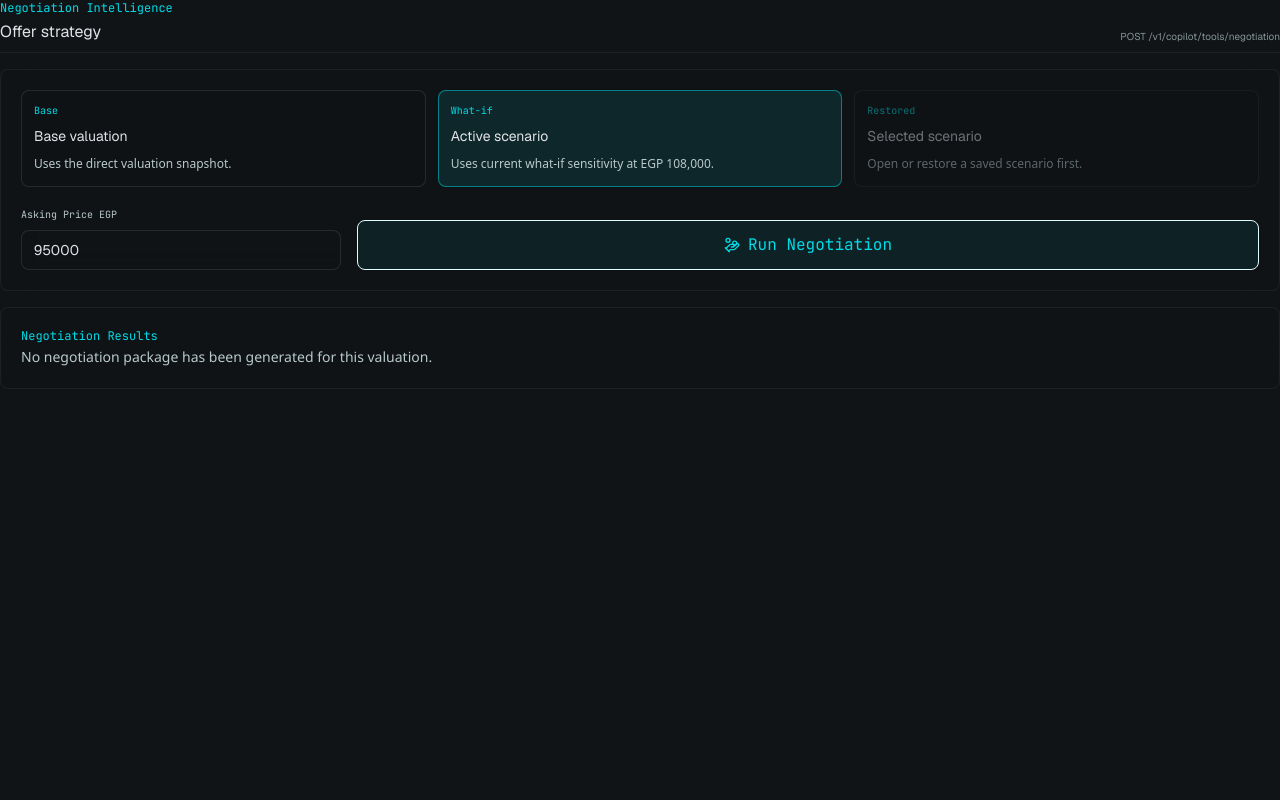
Scenario: NegotiationIntelligencePanel › runs negotiation on the active unsaved scenario with what-if modifications
Replace the text in the number field named "negotiation asking price" with "118000": (181, 250) [21, 230, 341, 270]
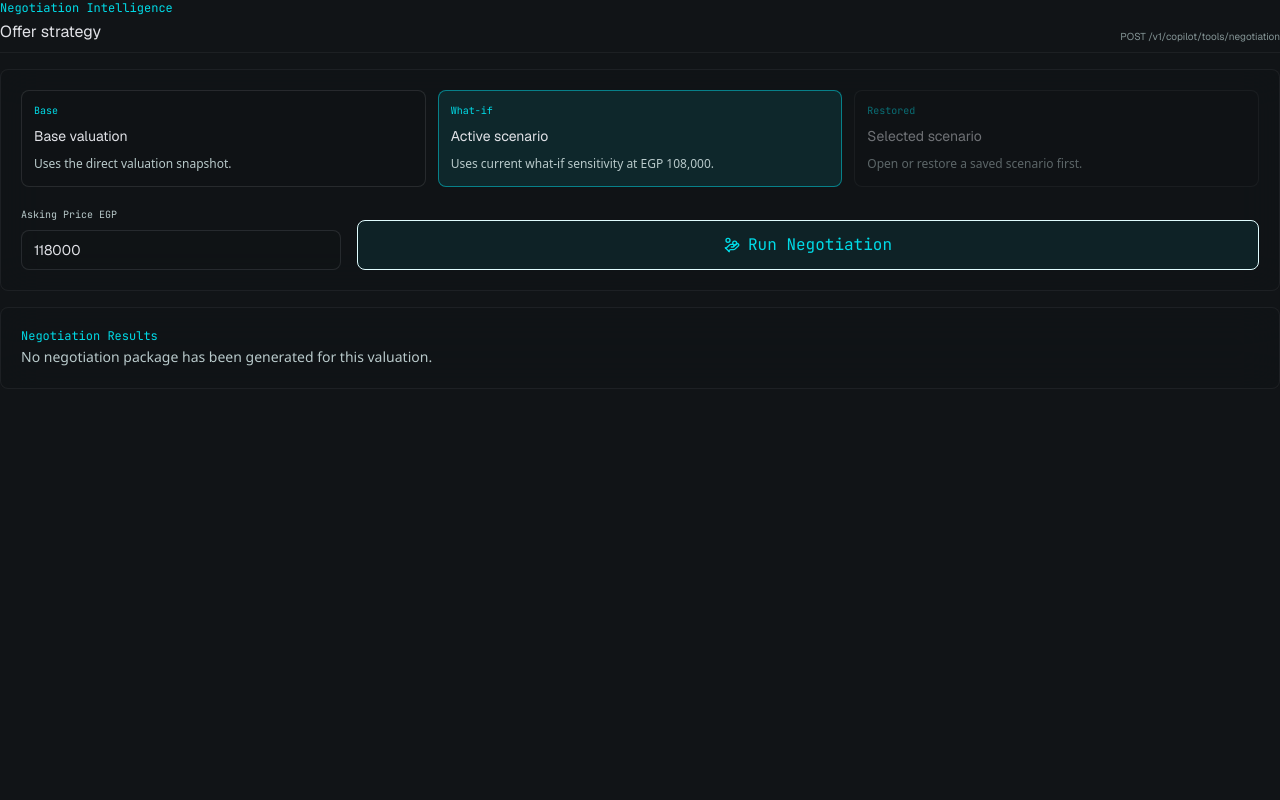
Click the button "Run Negotiation": click(808, 245) [357, 220, 1259, 270]
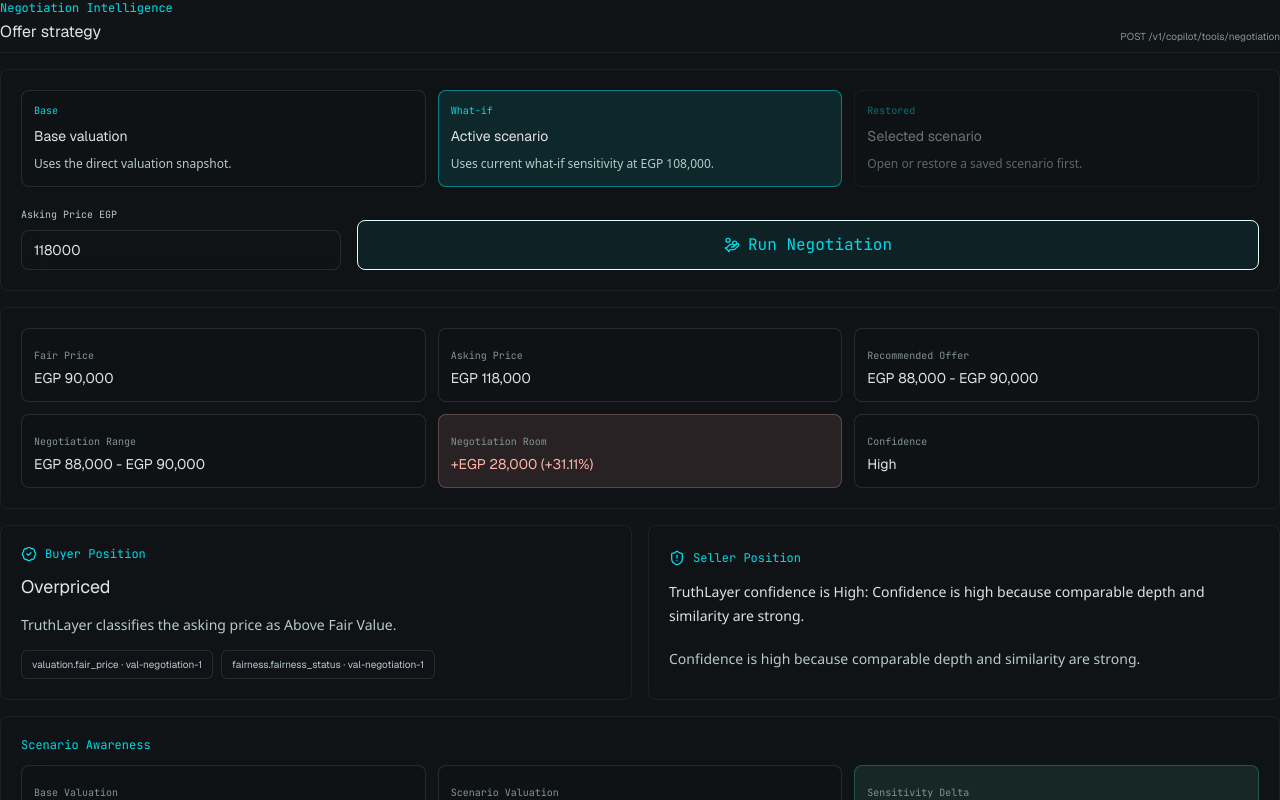
Expected: the text "Scenario Awareness" is shown, [21, 737, 151, 753]
